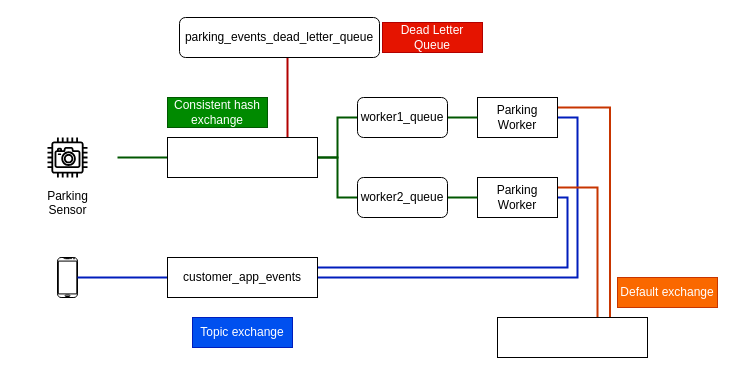
This 735x375 diagram has some shape labels left out. Each missing label, with the centre of its shape:
billing_events: (x=572, y=337)
Customer App(s): (x=67, y=277)
parking_events_exchange: (x=242, y=157)
